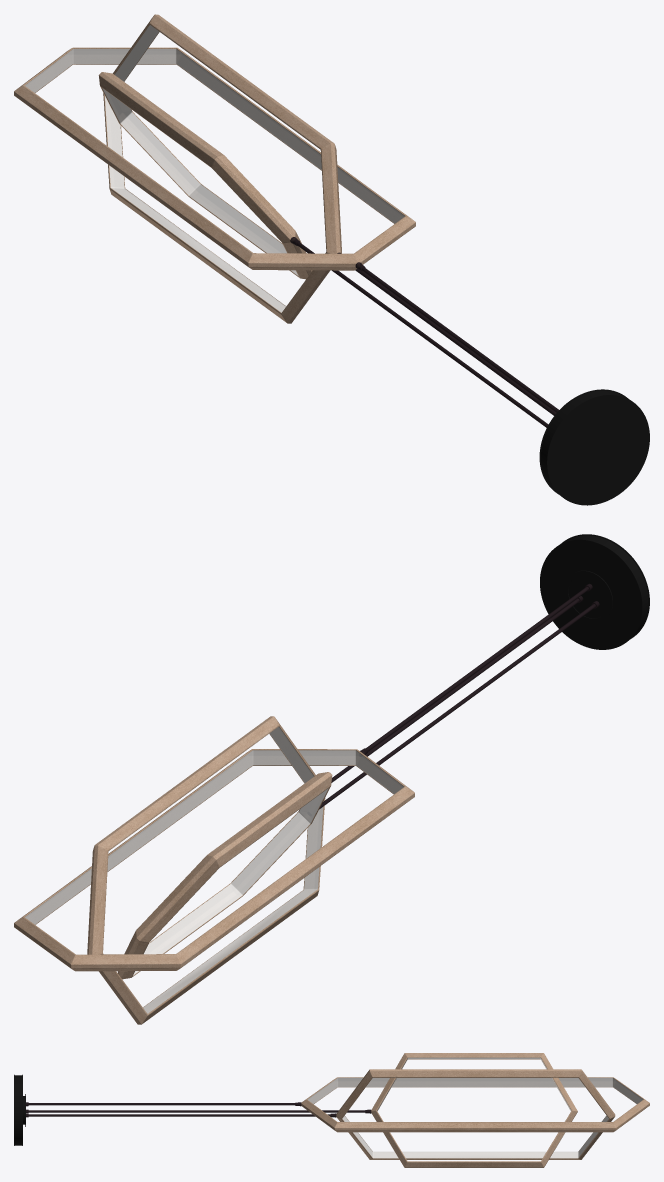
File: Studio_Endo_Orbis_mat2.obj
3 views of the same model, one above another, from view 1: azimuth 30°, elevation 25°; view 2: azimuth 150°, elevation 25°; view 3: azimuth 270°, elevation 25° (orthographic). The views are drawn at different scales.
Parts seen in each view (by area): view 1: Studio_Endo_Orbis_mat2; view 2: Studio_Endo_Orbis_mat2; view 3: Studio_Endo_Orbis_mat2.
Part boxes in pixels (<box>): Studio_Endo_Orbis_mat2: <box>14,14,649,505</box>; Studio_Endo_Orbis_mat2: <box>14,534,649,1024</box>; Studio_Endo_Orbis_mat2: <box>14,1053,649,1167</box>.
Size of the model in its own units: 48.95 by 47.54 by 268.
Materials: 4 (1 with a texture image).
